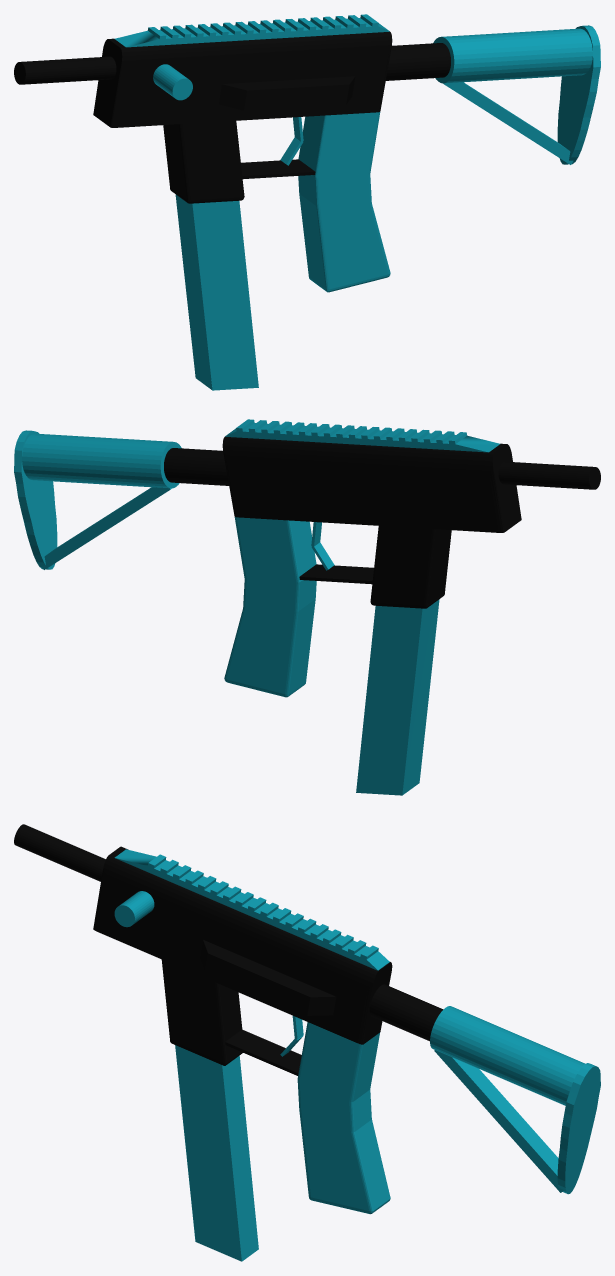
File: fgc0003.obj
3 renders of one model, top to bottom at view 1: azimuth 30°, elevation 25°; view 2: azimuth 150°, elevation 25°; view 3: azimuth 330°, elevation 25°, orthographic.
Parts seen in each view (by area): view 1: upperReceiver, rearPistolGrip, mag, StockCylinder, magWell, picatinyRail, ejectorCover, buttPlate, barrel, bufferTube, stockSupport, lowerTriggerGuard (+1 smaller); view 2: upperReceiver, rearPistolGrip, mag, StockCylinder, magWell, picatinyRail, buttPlate, barrel, bufferTube, stockSupport, lowerTriggerGuard; view 3: upperReceiver, rearPistolGrip, mag, StockCylinder, picatinyRail, magWell, ejectorCover, buttPlate, stockSupport, bufferTube, barrel, lowerTriggerGuard (+1 smaller).
Boxes of the visible parts, x1,y1,x2,y2 form: upperReceiver: (93, 31, 392, 127); rearPistolGrip: (298, 112, 390, 292); mag: (175, 194, 258, 390); StockCylinder: (433, 28, 592, 83); magWell: (163, 121, 244, 203); picatinyRail: (114, 14, 389, 47); ejectorCover: (219, 76, 355, 110); buttPlate: (557, 25, 600, 164); barrel: (14, 56, 116, 84); bufferTube: (386, 43, 450, 80); stockSupport: (443, 82, 573, 164); lowerTriggerGuard: (241, 159, 315, 179); upperReceiver: (222, 437, 521, 532); rearPistolGrip: (224, 517, 316, 697); mag: (356, 599, 439, 795); StockCylinder: (22, 433, 181, 488); magWell: (370, 526, 451, 608); picatinyRail: (225, 419, 499, 452); buttPlate: (14, 430, 57, 569); barrel: (498, 461, 600, 489); bufferTube: (164, 448, 228, 485); stockSupport: (41, 487, 171, 569); lowerTriggerGuard: (299, 564, 373, 584); upperReceiver: (93, 846, 392, 1044); rearPistolGrip: (297, 1022, 390, 1214); mag: (175, 1045, 258, 1261); StockCylinder: (430, 1006, 584, 1105); picatinyRail: (114, 849, 389, 970); magWell: (161, 959, 242, 1065); ejectorCover: (199, 940, 336, 1015); buttPlate: (557, 1063, 600, 1194); stockSupport: (434, 1050, 563, 1192); bufferTube: (369, 984, 443, 1041); barrel: (14, 824, 105, 881); lowerTriggerGuard: (225, 1029, 301, 1075).
Bounding box in the file's own units: 4.52 × 2.82 × 0.5812.
